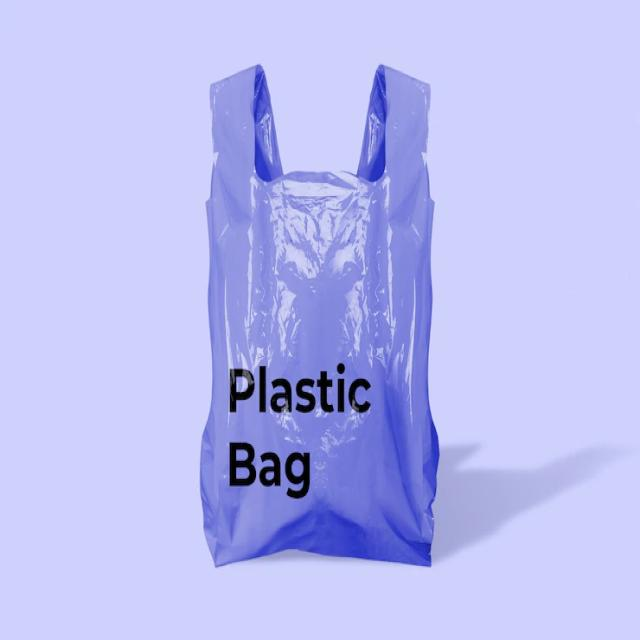plastic_bag: (190, 43, 458, 602)
